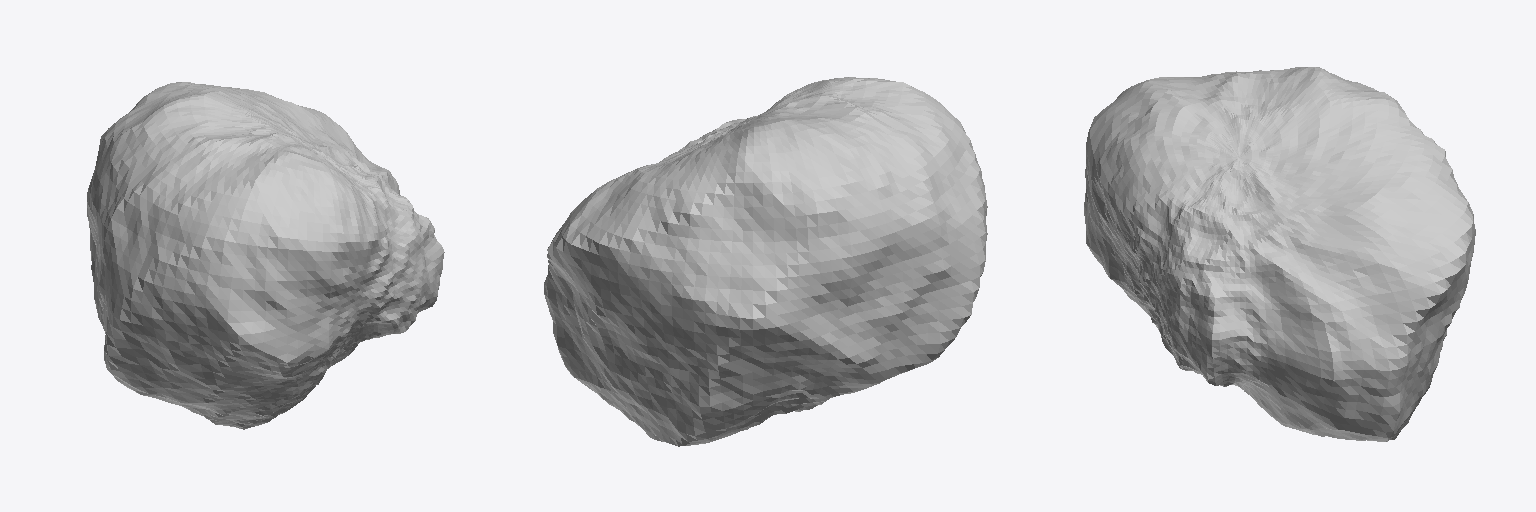
File: coton.obj
3 views of the same model, side by side, from view 1: azimuth 30°, elevation 25°; view 2: azimuth 150°, elevation 25°; view 3: azimuth 270°, elevation 25° (orthographic).
Visible parts, largest first — view 1: Terrain; view 2: Terrain; view 3: Terrain.
Part boxes in pixels (x1,y1,x2,y2): Terrain: (87, 82, 444, 429); Terrain: (544, 77, 987, 446); Terrain: (1084, 67, 1475, 441).
Size of the model in its own units: 12.07 by 10.16 by 11.5.